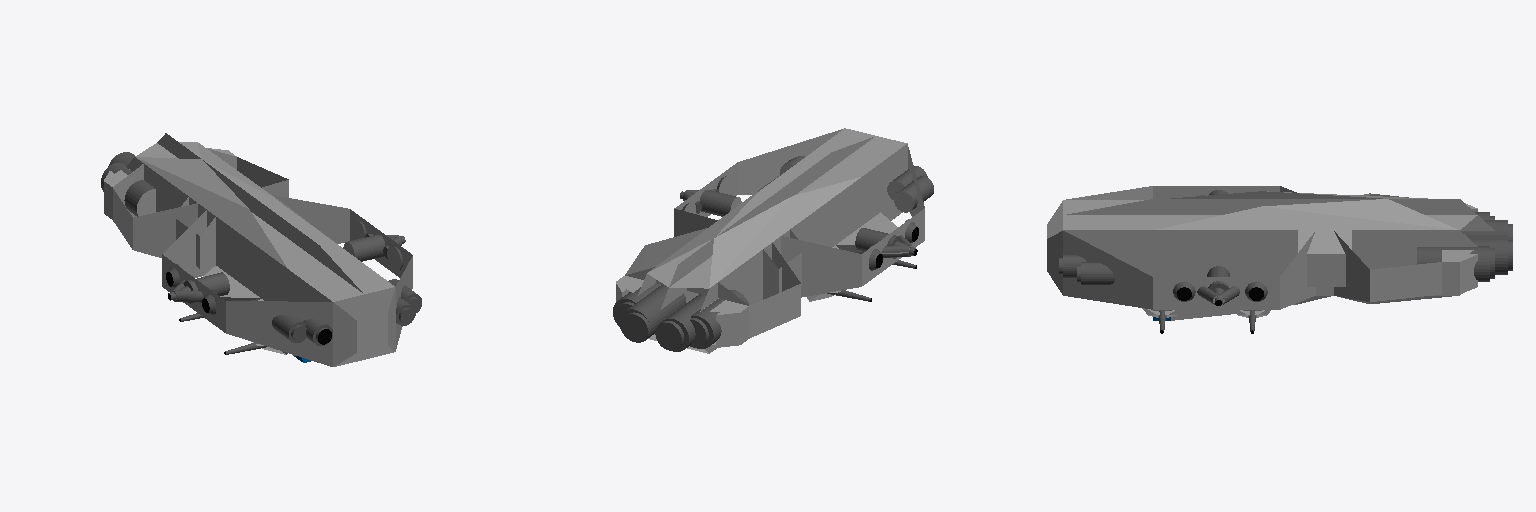
File: ShipOne.obj
3 renders of one model, left to right at view 1: azimuth 30°, elevation 25°; view 2: azimuth 150°, elevation 25°; view 3: azimuth 270°, elevation 25°, orthographic.
Visible parts, largest first — view 1: Cube.002; view 2: Cube.002; view 3: Cube.002.
Part boxes in pixels (bbox=[...]): Cube.002: bbox=[101, 133, 421, 366]; Cube.002: bbox=[613, 128, 933, 353]; Cube.002: bbox=[1047, 186, 1512, 333].
Bounding box in the file's own units: 15 × 7 × 25.8.